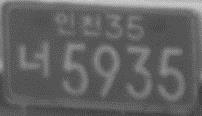3: (125, 46, 153, 100), (105, 13, 123, 41)
5: (157, 46, 186, 101), (61, 42, 88, 96), (126, 15, 145, 41)
9: (93, 44, 122, 97)
너: (18, 40, 52, 80)
인천_O: (54, 12, 104, 39)
